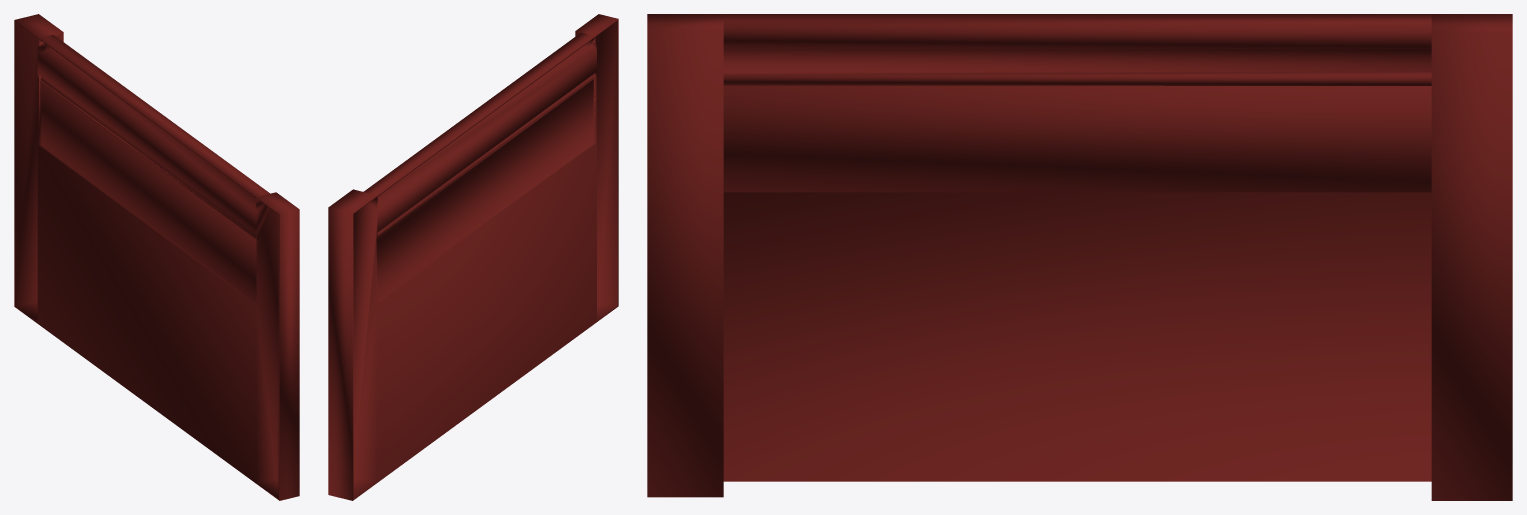
File: proboundarygarhkaleba.fbx
3 views of the same model, side by side, from view 1: azimuth 30°, elevation 25°; view 2: azimuth 150°, elevation 25°; view 3: azimuth 270°, elevation 25° (orthographic). The views are drawn at different scales.
Visible parts, largest first — view 1: Plane; view 2: Plane; view 3: Plane.
Boxes of the visible parts, left/top/right/bottom form: Plane: left=14, top=14, right=299, bottom=500; Plane: left=328, top=14, right=618, bottom=500; Plane: left=647, top=14, right=1512, bottom=500.
Bounding box in the file's own units: 18.63 × 202 × 339.
